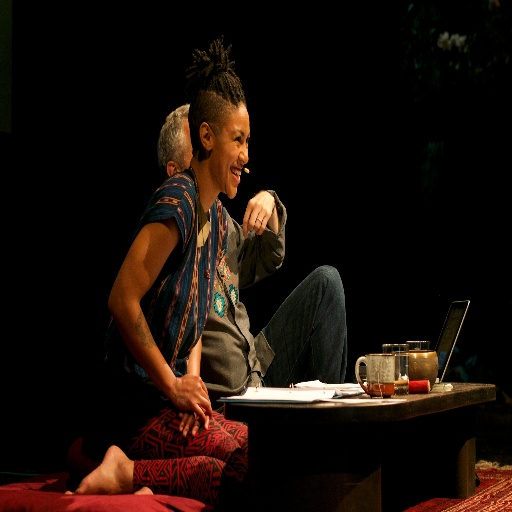hand: (243, 190, 282, 247), (174, 372, 212, 425), (176, 406, 210, 437)
